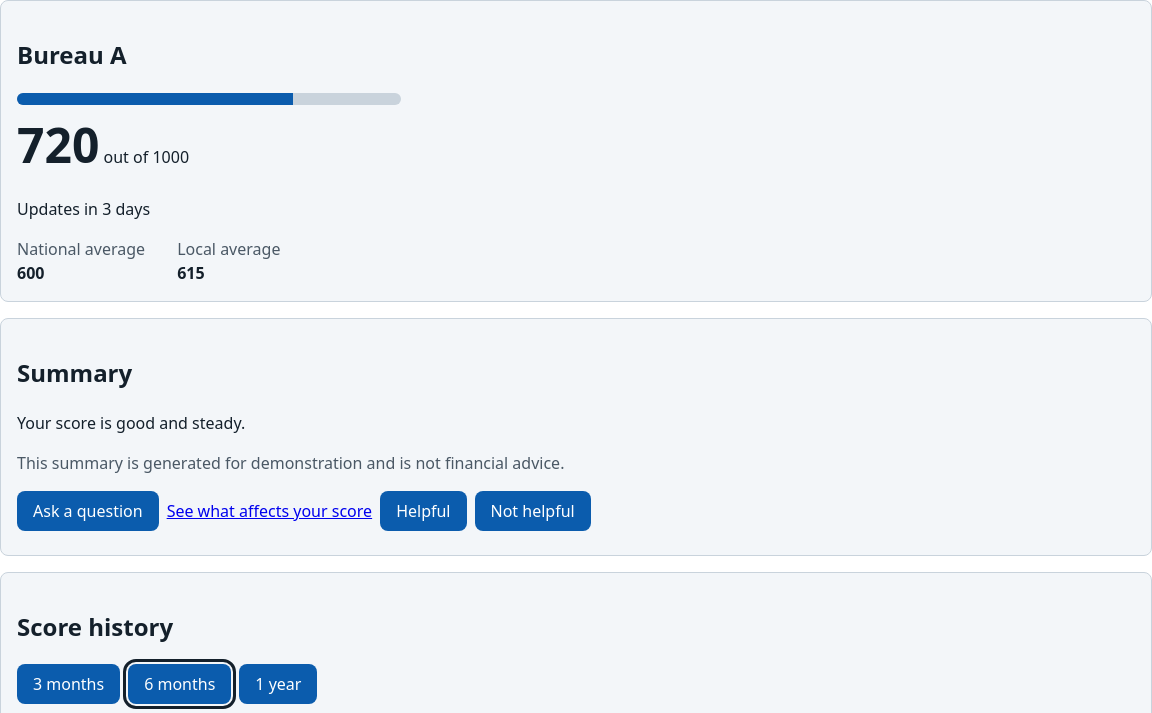
Test case: the summary feedback (BR-10) › a failed save says so and leaves the buttons as they were
Click the button with test id "btn-like": (423, 511) x1=380 y1=491 x2=466 y2=531
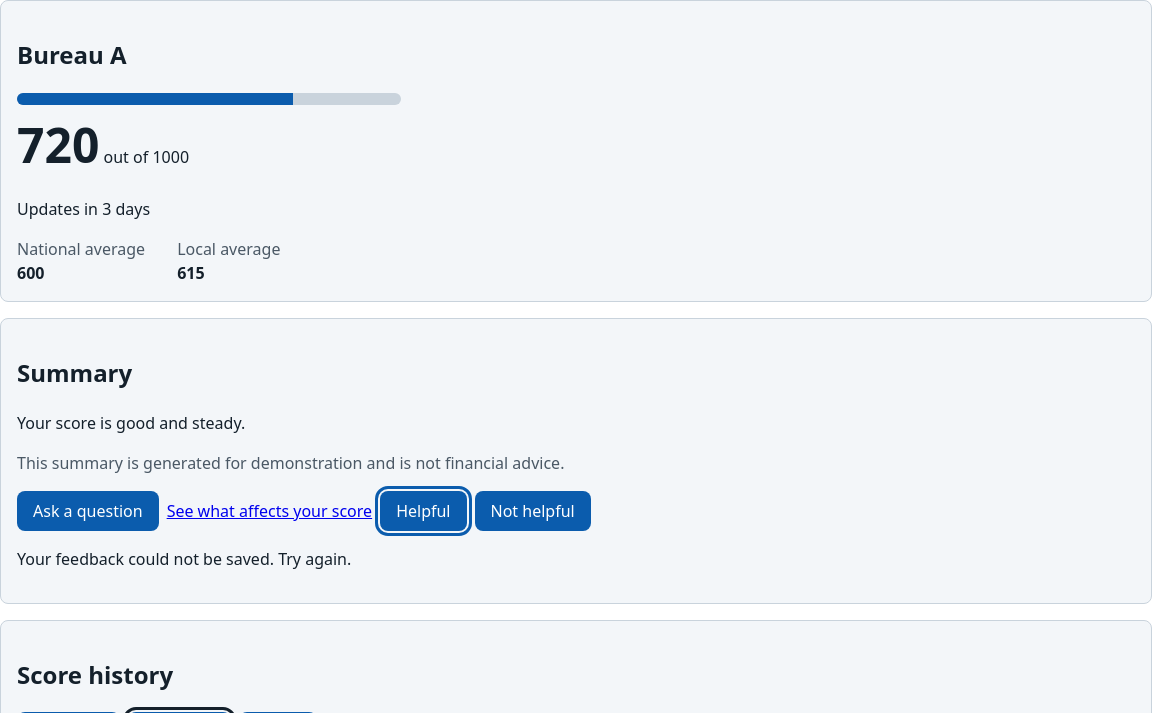
expect the message shows "could not be saved": met, box x1=17 y1=548 x2=351 y2=570
